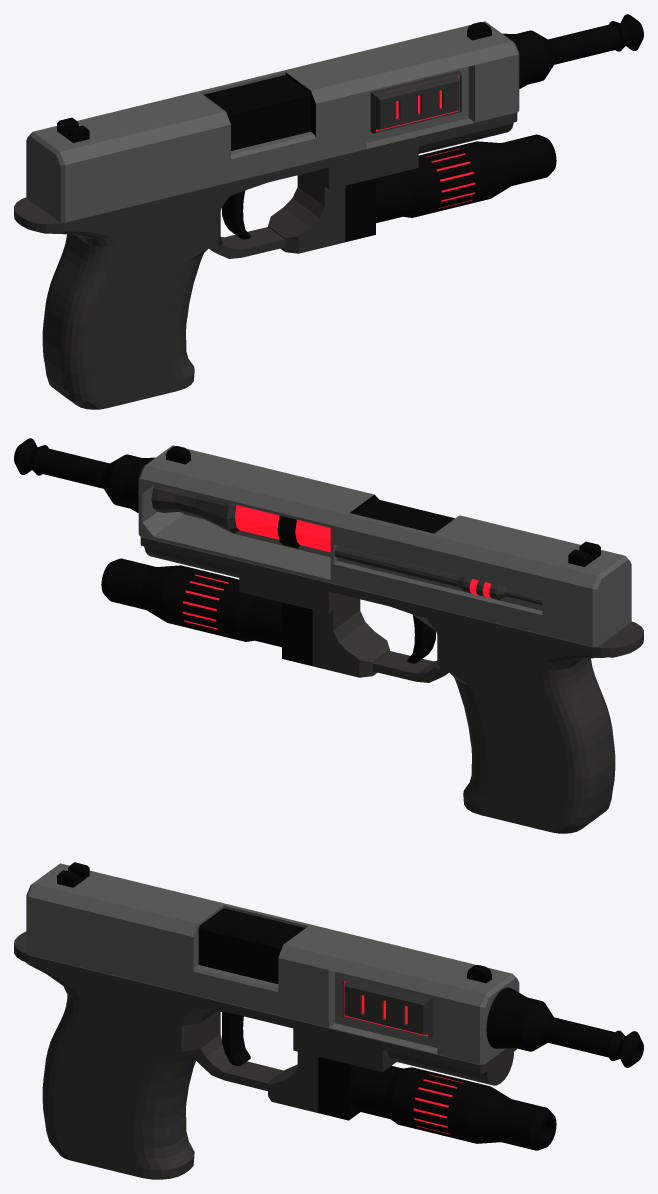
File: pistola.fbx
3 views of the same model, one above another, from view 1: azimuth 30°, elevation 25°; view 2: azimuth 150°, elevation 25°; view 3: azimuth 330°, elevation 25° (orthographic).
Parts seen in each view (by area): view 1: Cube.001; view 2: Cube.001; view 3: Cube.001.
Boxes of the visible parts, left/top/right/bottom form: Cube.001: left=14, top=14, right=643, bottom=409; Cube.001: left=14, top=438, right=643, bottom=833; Cube.001: left=14, top=862, right=643, bottom=1179.
Size of the model in its own units: 1888 by 802 by 202.
